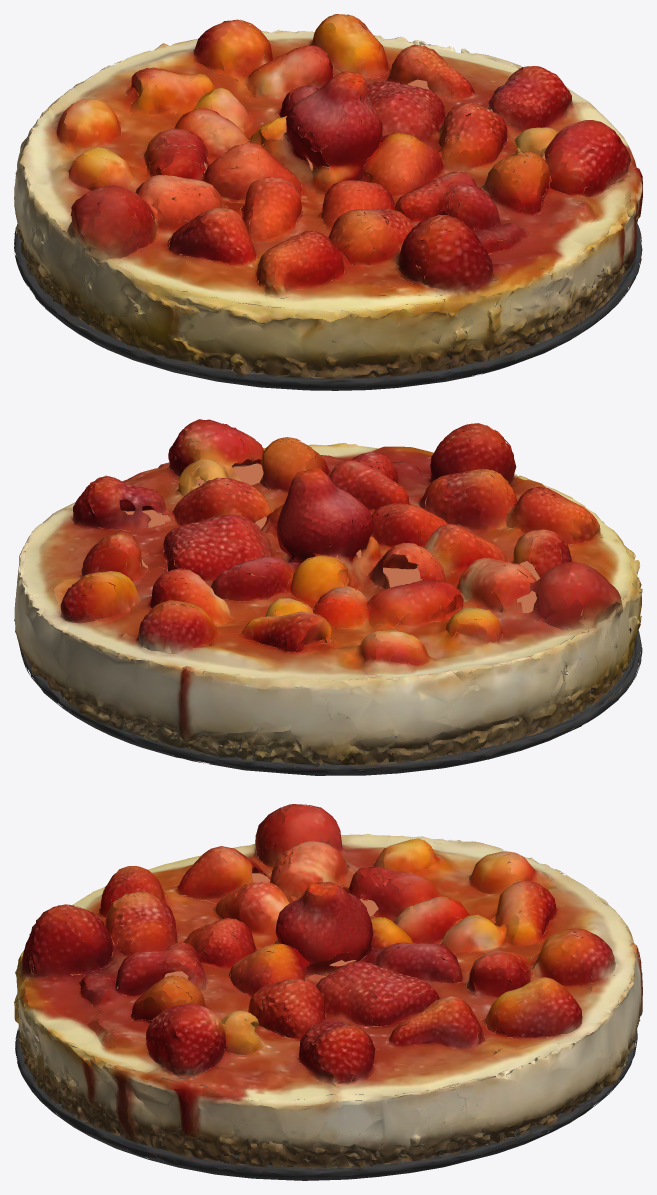
Rendered from cardamomo-4003.glb.
3 views of the same model, one above another, from view 1: azimuth 30°, elevation 25°; view 2: azimuth 150°, elevation 25°; view 3: azimuth 270°, elevation 25° (orthographic).
Parts seen in each view (by area): view 1: world_1, plug; view 2: world_1, plug; view 3: world_1, plug.
Boxes of the visible parts, bbox=[...] form: world_1: bbox=[14, 14, 642, 390]; plug: bbox=[59, 62, 601, 295]; world_1: bbox=[14, 419, 642, 775]; plug: bbox=[55, 464, 583, 689]; world_1: bbox=[14, 804, 642, 1180]; plug: bbox=[53, 857, 597, 1087].
Bounding box in the file's own units: 0.2401 × 0.0782 × 0.2399.
2 materials, 1 textured.
